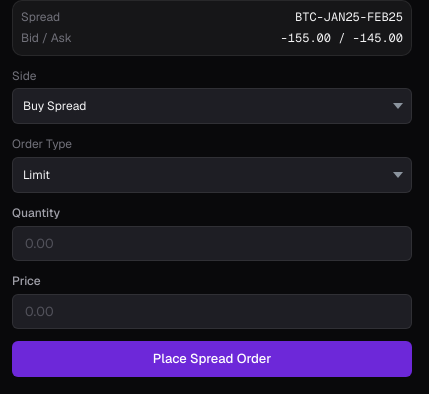
SpreadOrderForm › hides price input when market order type is selected
Select "Market" in the dropdown labelled "Order Type" at (212, 175), box [12,157,412,193]
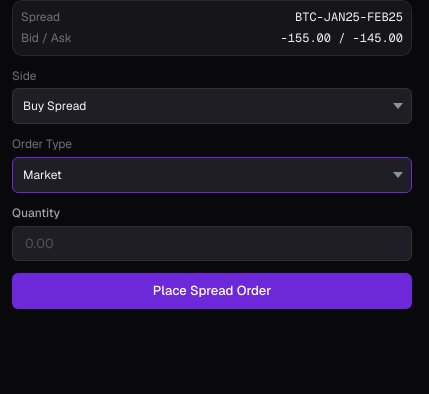
Expected: the label labelled "Price" is gone
